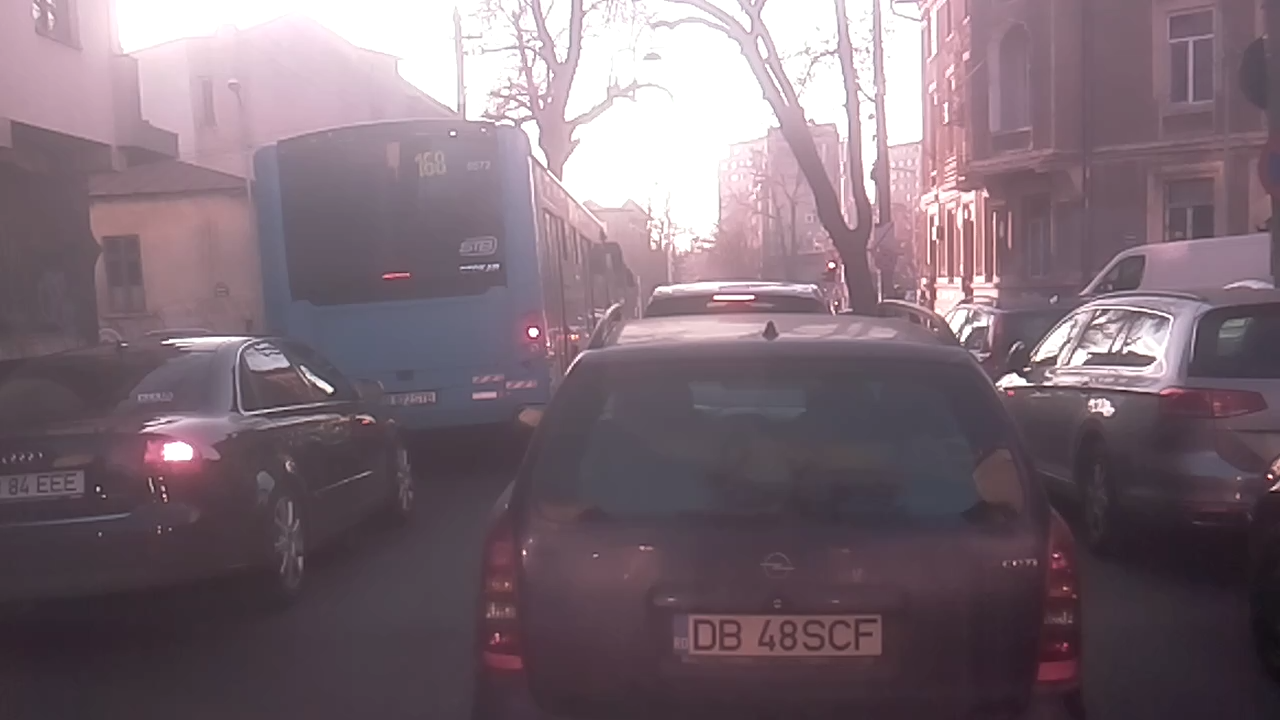license-plate: (666, 606, 890, 666)
